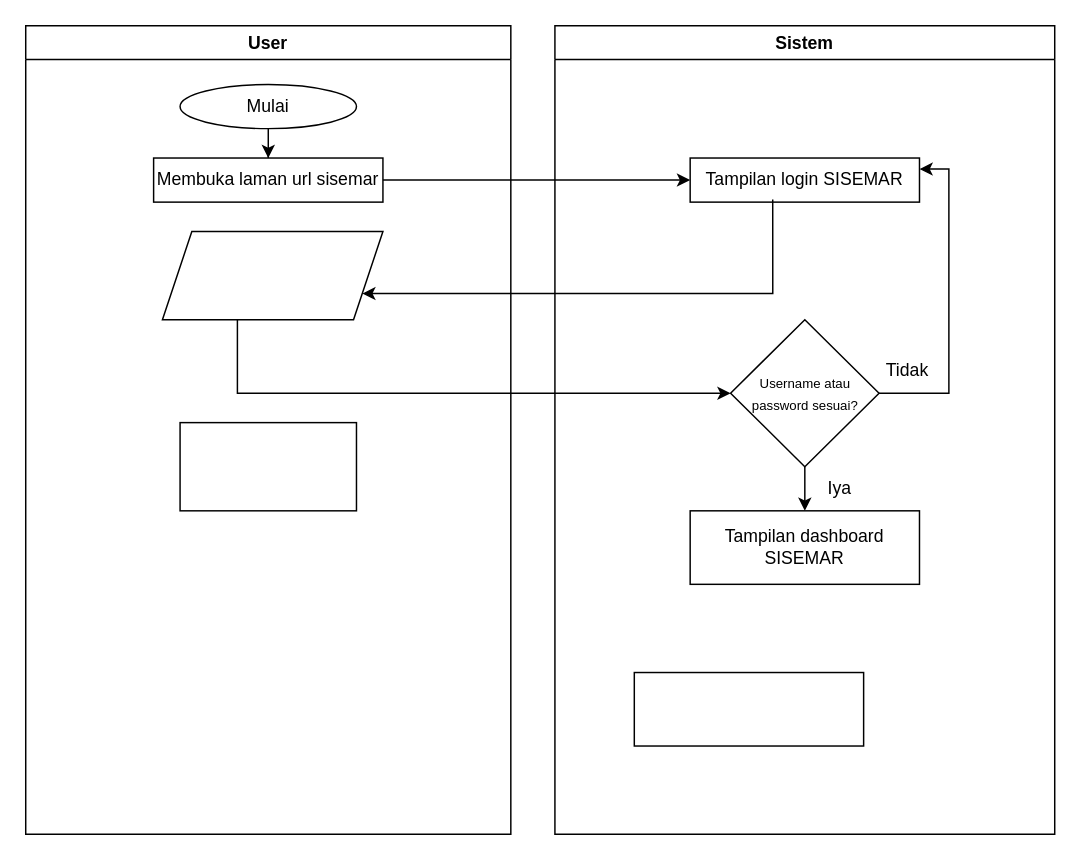
Image size: 1080x860. Some labels were removed from this diagram. Each missing label, with the centre of its shape:
"Input username dan password" belongs at pixel 272 275.
"Memilih menu...." belongs at pixel 267 466.
"Tampilan ....." belongs at pixel 748 708.
